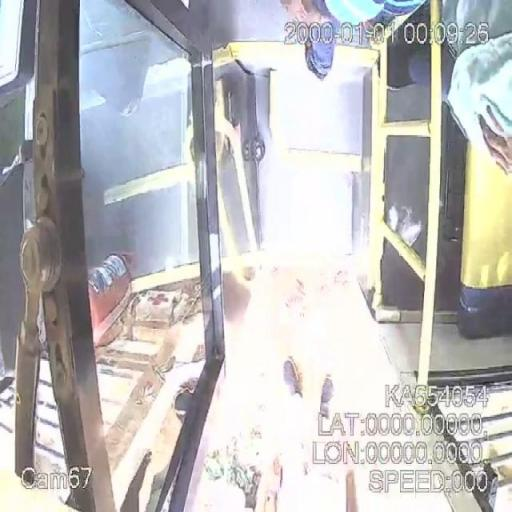persona: (301, 0, 425, 91), (279, 356, 343, 512)
